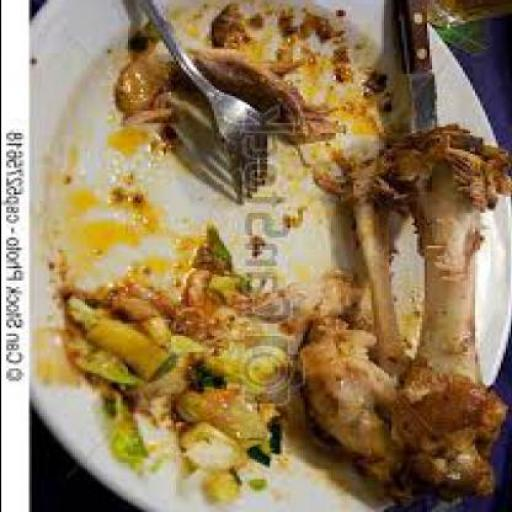biodegradable: (380, 130, 511, 504), (322, 139, 413, 383), (300, 313, 415, 504), (208, 43, 337, 148), (185, 379, 289, 467), (160, 287, 254, 354), (114, 51, 197, 123), (88, 318, 174, 386), (190, 237, 251, 314), (177, 421, 254, 477), (104, 386, 157, 466), (174, 335, 244, 387), (104, 279, 178, 328), (154, 334, 208, 400), (246, 279, 314, 328), (281, 6, 350, 43), (213, 6, 256, 56), (195, 473, 243, 504), (66, 303, 104, 332), (246, 479, 268, 496)
metal: (140, 2, 266, 201), (406, 74, 441, 141)
